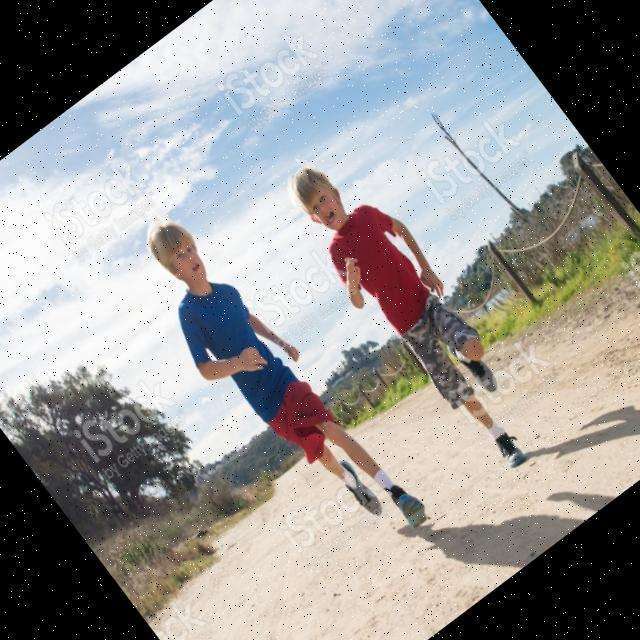Person: (114, 198, 430, 573), (268, 138, 562, 489)
